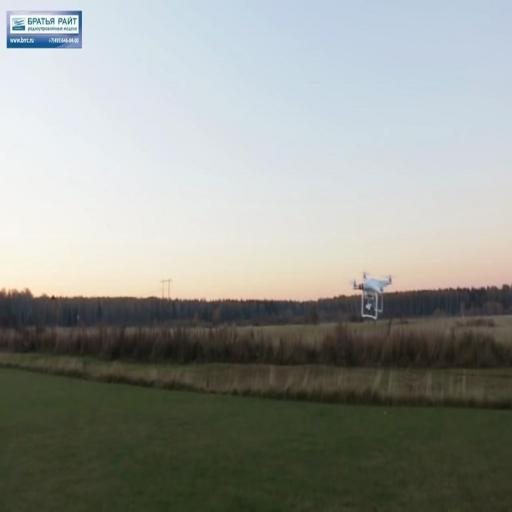drone: (345, 268, 396, 321)
